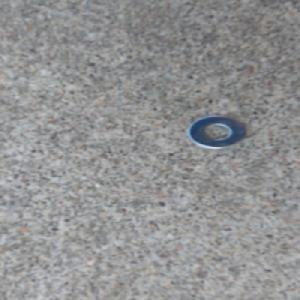Washer: (183, 112, 251, 151)
